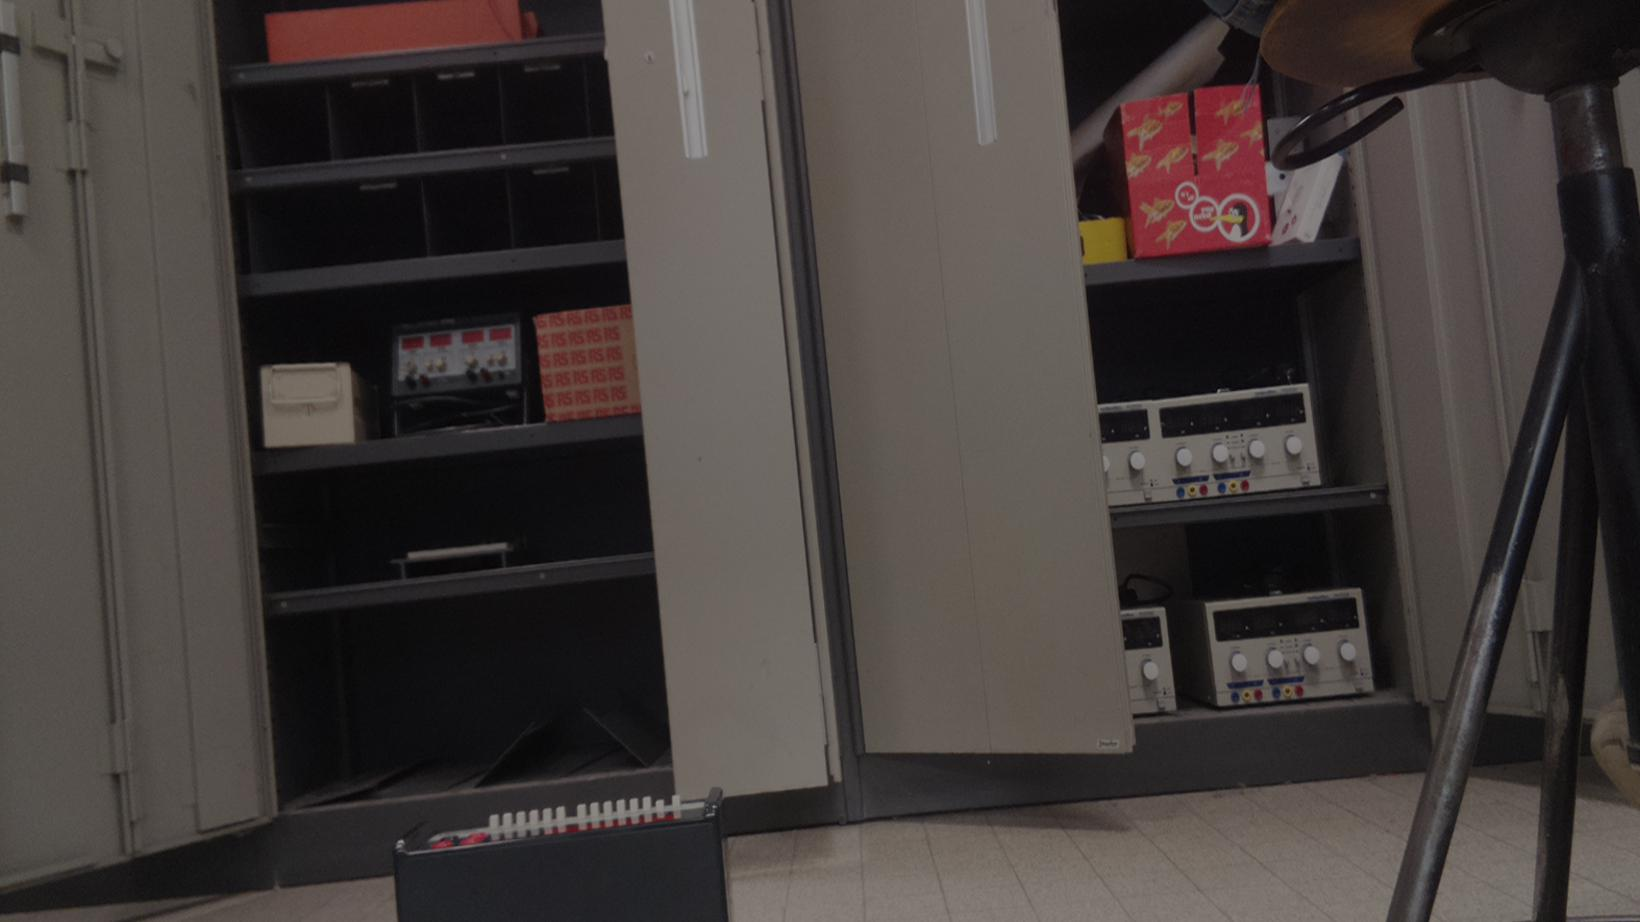medium: (396, 794, 731, 922)
